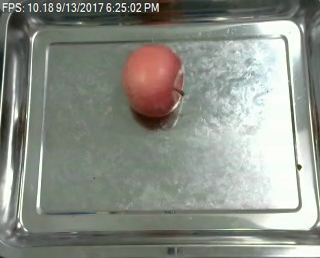Apple: (118, 41, 186, 120)
